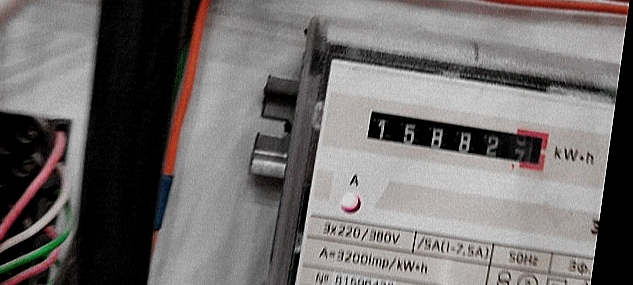1: (374, 116, 391, 139)
2: (483, 133, 502, 159)
5: (401, 119, 418, 146)
7: (513, 144, 527, 162)
8: (456, 129, 474, 155), (429, 125, 445, 150)
screen: (356, 100, 559, 181)
